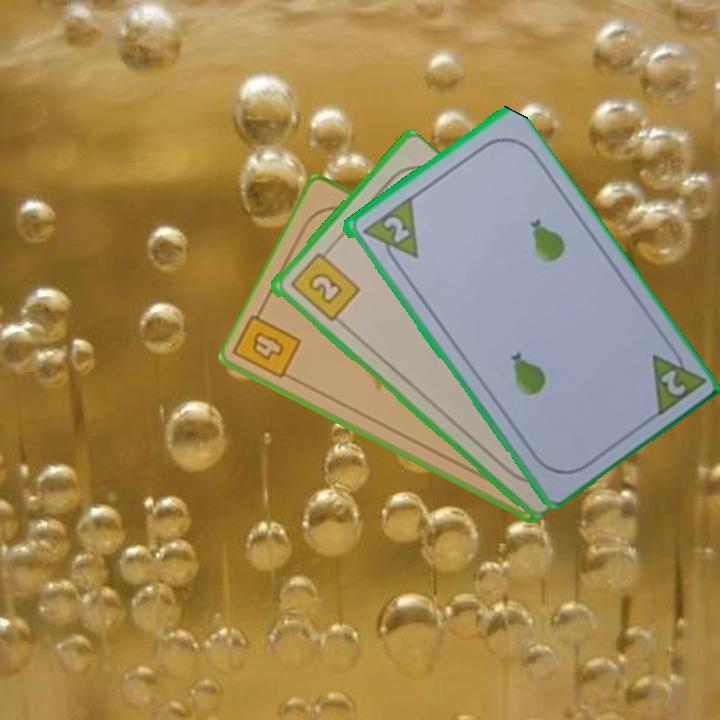2b: (286, 244, 362, 325)
2p: (357, 194, 421, 272), (647, 338, 706, 421)
4b: (247, 327, 287, 364)
